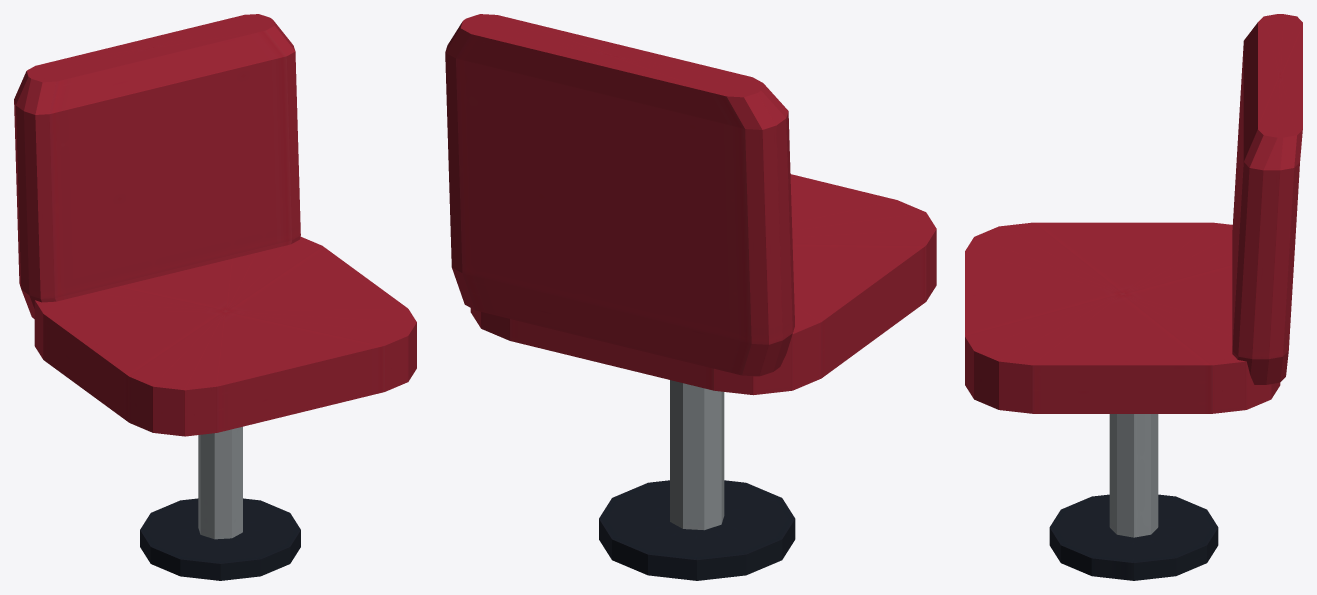
The model's file is fixed_chair_red.glb.
The picture shows the model from 3 angles, left to right: view 1: azimuth 30°, elevation 25°; view 2: azimuth 150°, elevation 25°; view 3: azimuth 270°, elevation 25°; orthographic projection. The views are drawn at different scales.
Parts seen in each view (by area): view 1: arcade_fixed_chair_red; view 2: arcade_fixed_chair_red; view 3: arcade_fixed_chair_red.
Part boxes in pixels (box(x1,y1,x2,y2)): arcade_fixed_chair_red: box(14, 14, 416, 580); arcade_fixed_chair_red: box(445, 14, 936, 580); arcade_fixed_chair_red: box(965, 14, 1302, 580).
Size of the model in its own units: 0.6 by 0.92 by 0.6.
2 materials, 2 textured.
